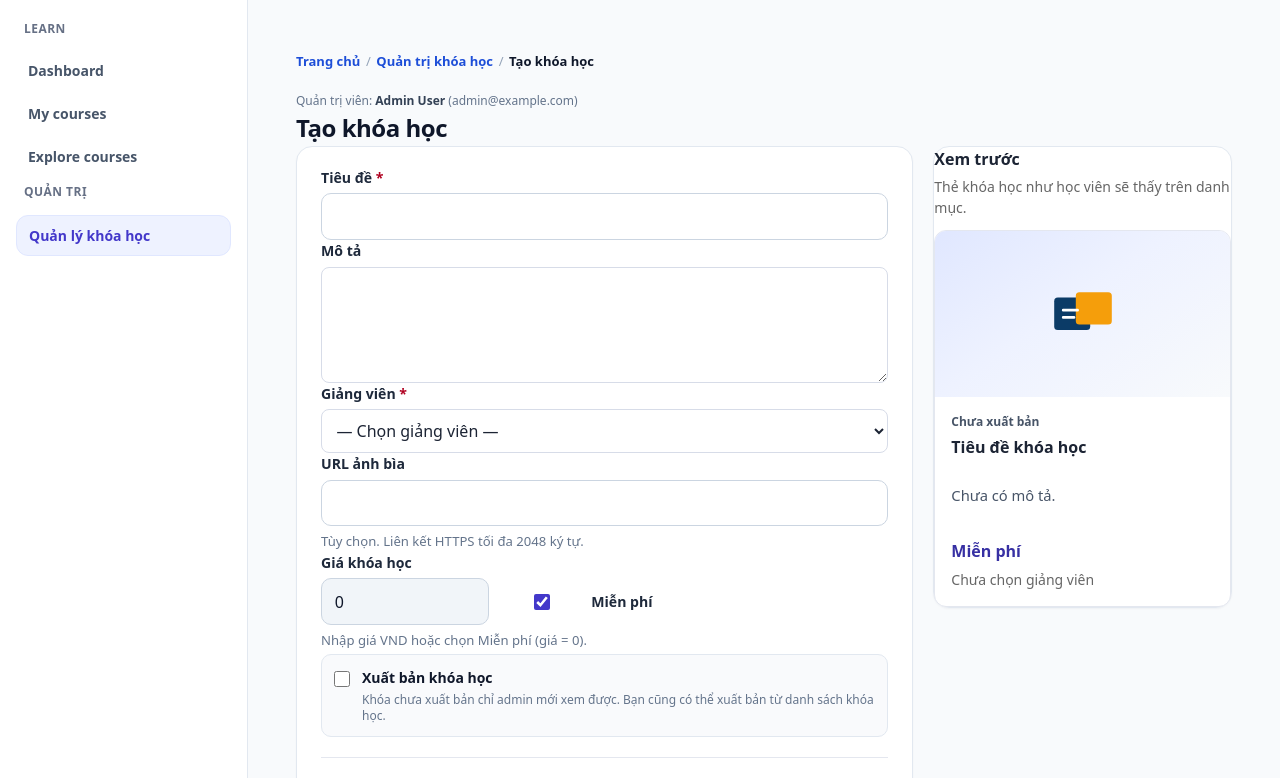
Test: AdminCourseFormPage create › keeps price input and Miễn phí checkbox on one row with free disabling the input
This screenshot has width=1280, height=778.
Expected: the element named "Giá khóa học" is shown, [321,578,652,625]
Expected: the number field labelled "Giá khóa học" is disabled, [321,578,489,625]
Click the checkbox labelled "Miễn phí".
click(542, 602)  # box [501,594,583,610]
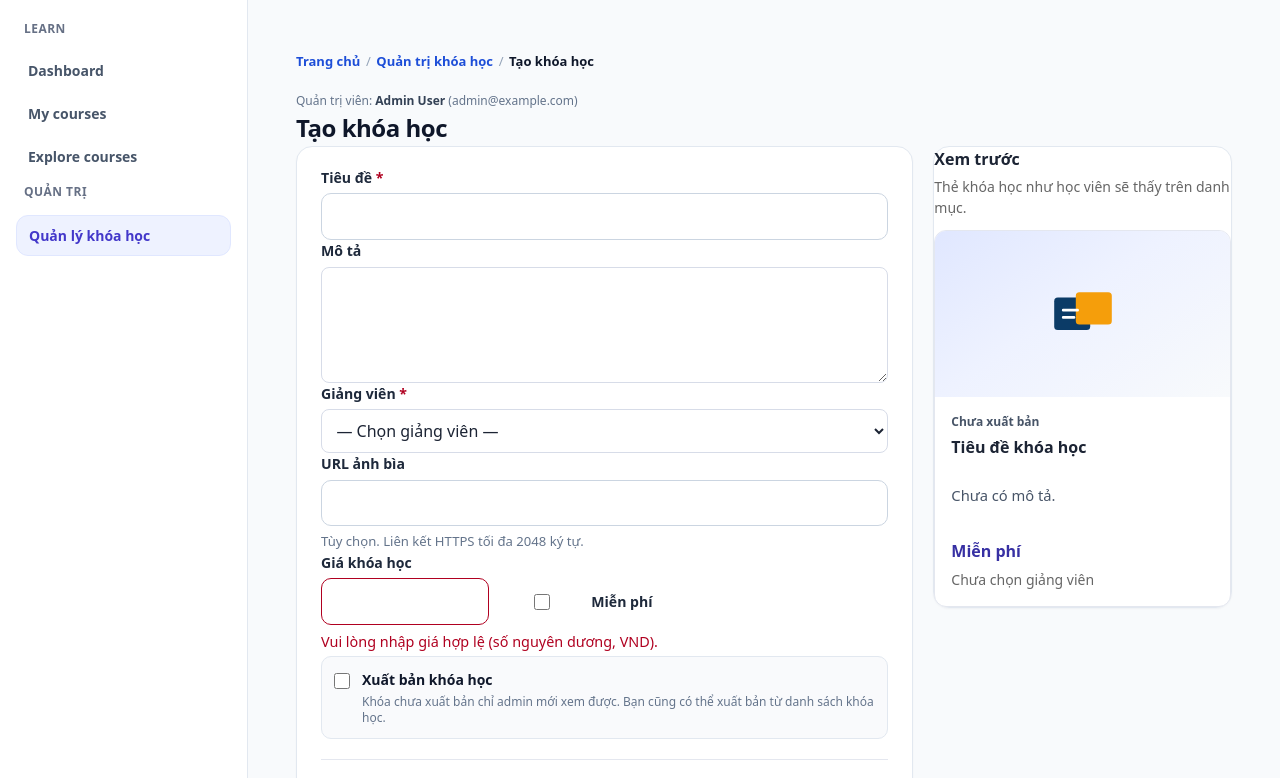
Expected: the number field labelled "Giá khóa học" is enabled
Type "150000" into the number field labelled "Giá khóa học".
click(405, 602); type("150000")  # box [321,578,489,625]
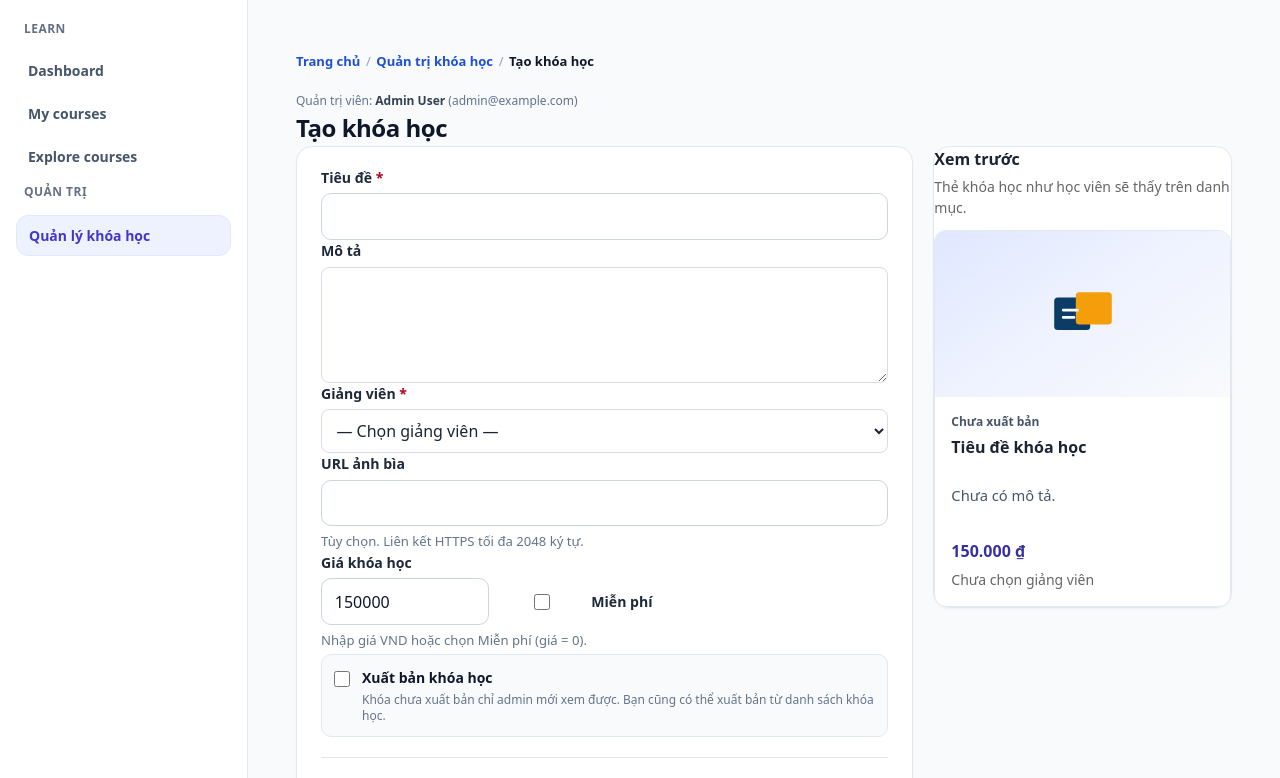
Click the checkbox labelled "Miễn phí".
click(542, 602)  # box [501,594,583,610]
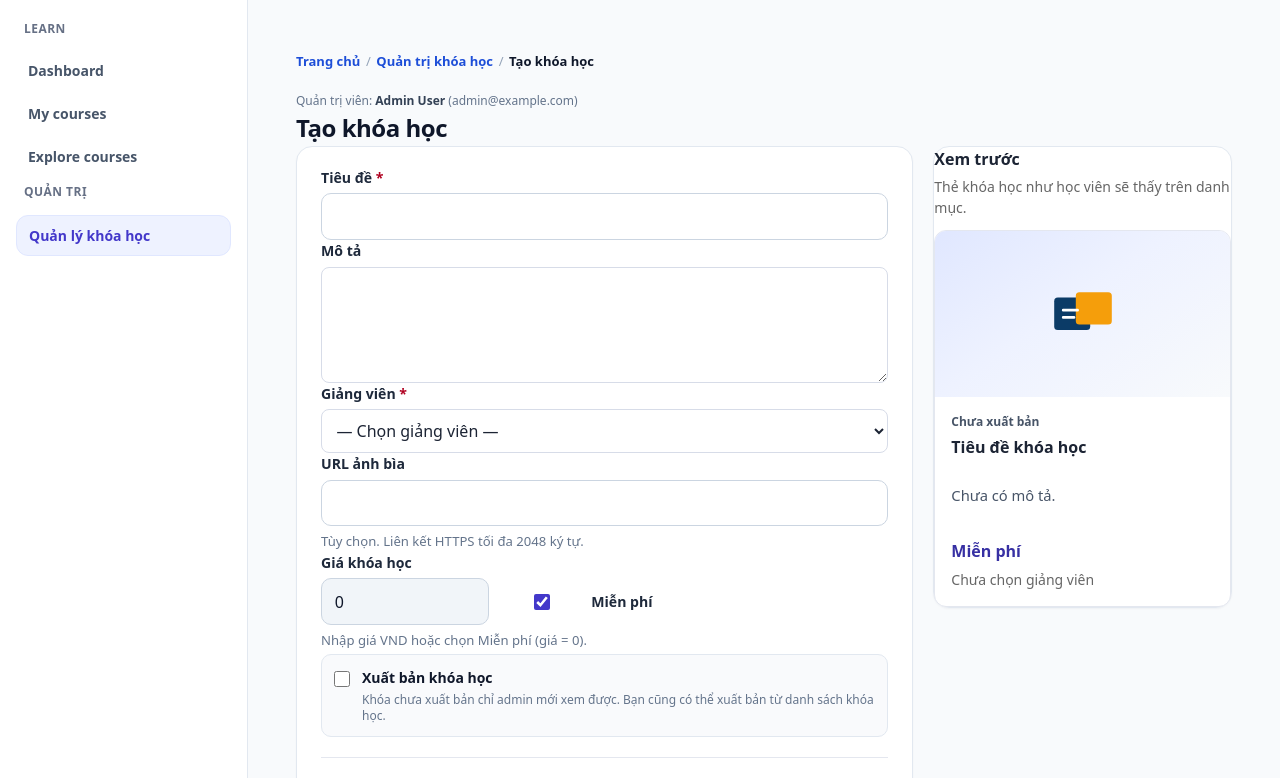
Expected: the number field labelled "Giá khóa học" is disabled, [321,578,489,625]
Expected: the number field labelled "Giá khóa học" holds "0", [321,578,489,625]
